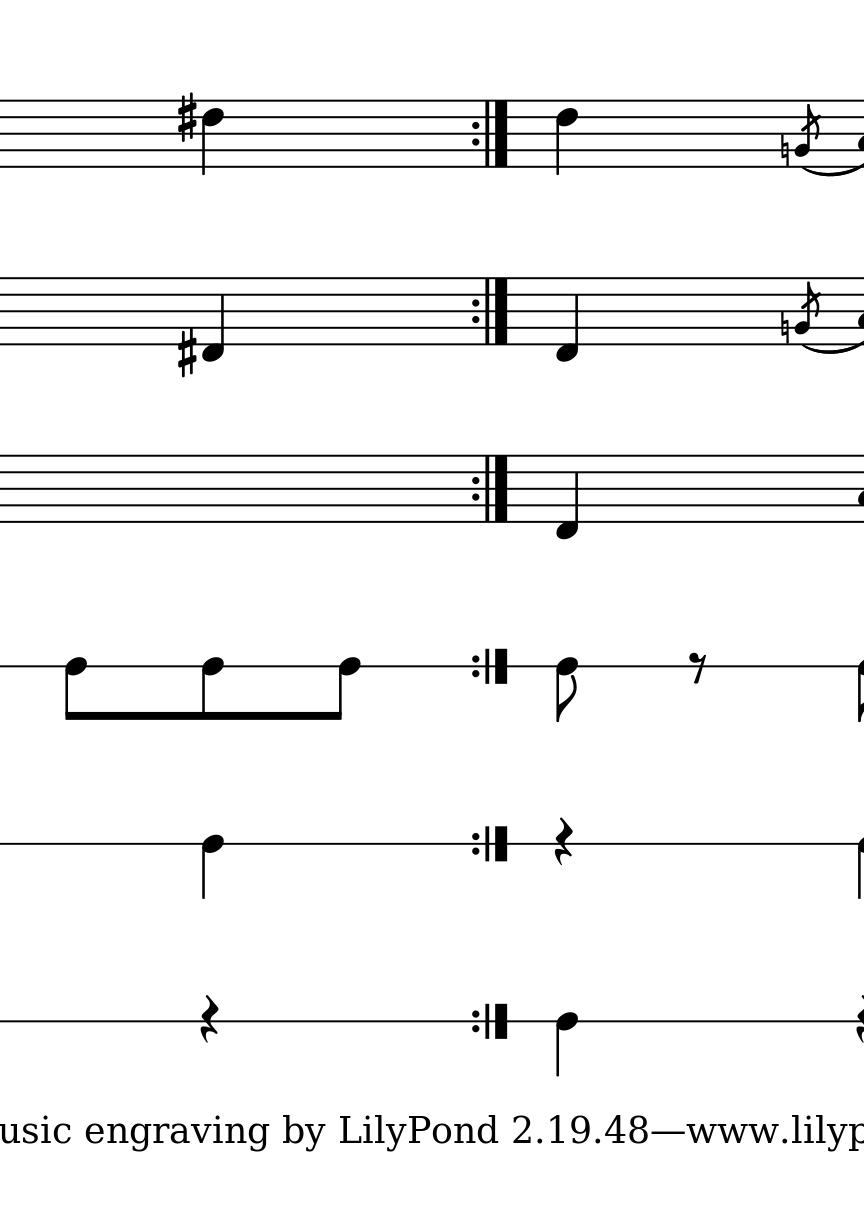4_-1: (554, 454, 583, 540), (554, 275, 581, 364), (201, 274, 227, 363)
4_4: (200, 834, 226, 900), (554, 1010, 580, 1076)
4_6: (200, 97, 225, 176), (555, 97, 580, 174)
8_4: (329, 655, 361, 723), (63, 655, 88, 723), (200, 655, 225, 723), (555, 656, 577, 724)
Acciaccature: (792, 276, 823, 346), (794, 99, 823, 168)
Natural: (778, 132, 792, 168), (780, 311, 792, 345)
Rests4: (554, 815, 575, 867), (198, 994, 220, 1043)
Rests8: (688, 649, 707, 686)
RightRepeatSign: (469, 277, 513, 346), (469, 454, 511, 523), (472, 101, 513, 168), (470, 647, 511, 684), (472, 825, 513, 862), (470, 1004, 511, 1041)
Sharp: (177, 328, 198, 380), (177, 92, 197, 143)
Slur: (804, 340, 864, 355), (802, 164, 864, 177)
